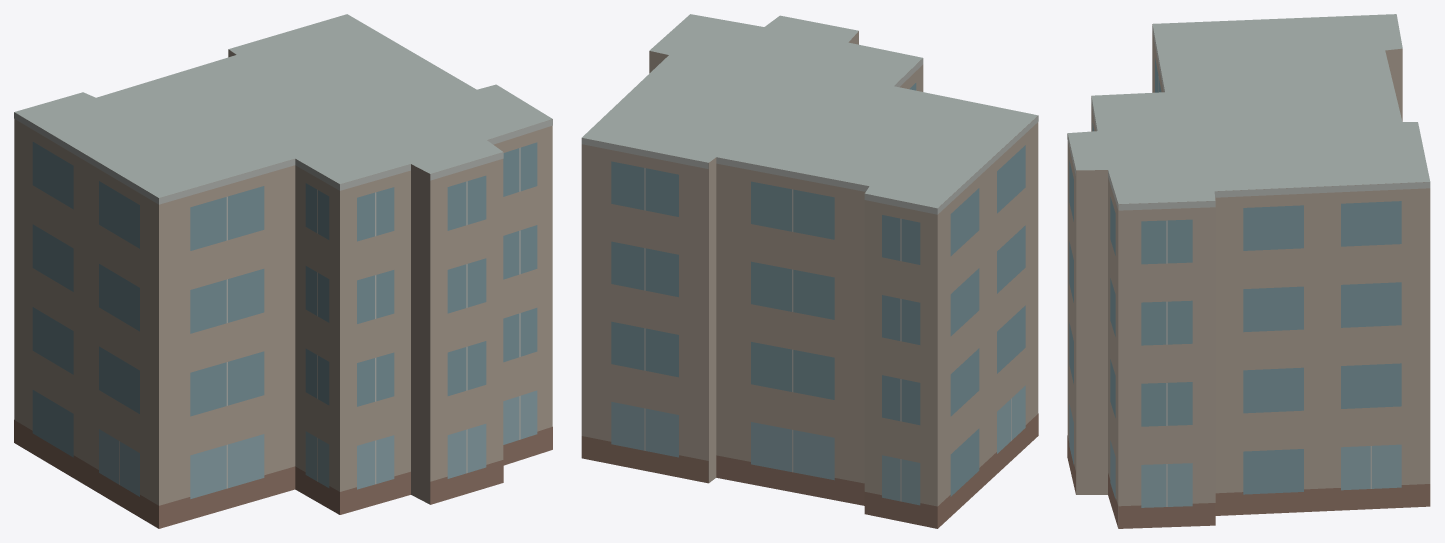
The model's file is survey-upis-32919377.glb.
3 views of the same model, side by side, from view 1: azimuth 30°, elevation 25°; view 2: azimuth 150°, elevation 25°; view 3: azimuth 270°, elevation 25° (orthographic). The views are drawn at different scales.
Visible parts, largest first — view 1: survey-upis-32919377.tmp; view 2: survey-upis-32919377.tmp; view 3: survey-upis-32919377.tmp.
Part boxes in pixels (x1=…): survey-upis-32919377.tmp: x1=14, y1=14, x2=552, y2=528; survey-upis-32919377.tmp: x1=581, y1=14, x2=1038, y2=528; survey-upis-32919377.tmp: x1=1067, y1=14, x2=1430, y2=528.
Bounding box in the file's own units: 15.33 × 12.2 × 12.36.
